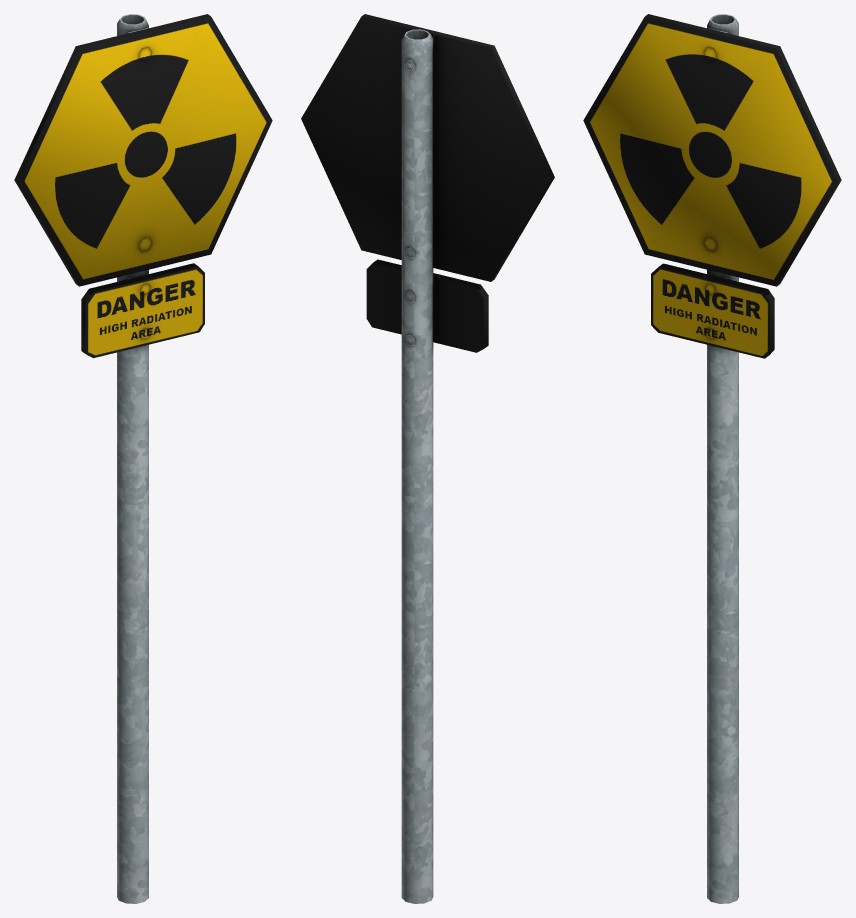
The model's file is RadiationSign.fbx.
3 views of the same model, side by side, from view 1: azimuth 30°, elevation 25°; view 2: azimuth 150°, elevation 25°; view 3: azimuth 330°, elevation 25° (orthographic).
Visible parts, largest first — view 1: polymsh; view 2: polymsh; view 3: polymsh.
Part boxes in pixels (x1,y1,x2,y2): polymsh: [14, 14, 272, 903]; polymsh: [301, 14, 554, 903]; polymsh: [583, 14, 841, 903].
Size of the model in its own units: 32.21 by 106 by 4.57.
